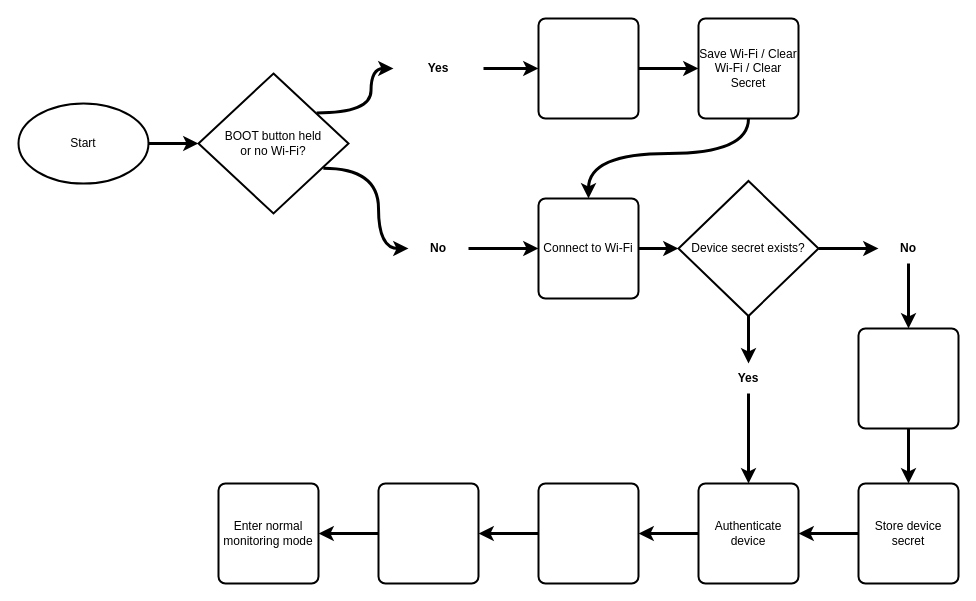
Image size: 976x601. Some labels were removed from this diagram. Here are the shapes that lost their labels. From the top down, the box of each, then its label:
(537, 17, 639, 119): Start setup portal
(857, 327, 959, 429): Provision device using serial number
(377, 482, 479, 584): Synchronize sensors
(537, 482, 639, 584): Receive device token
